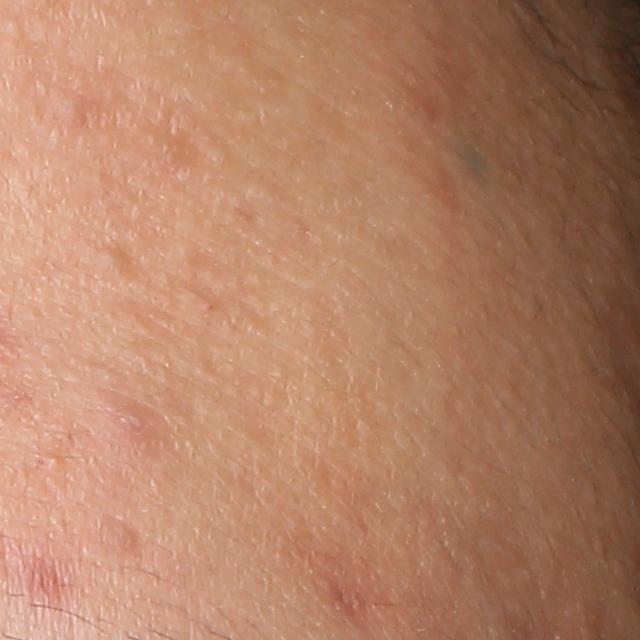comedo: (90, 248, 133, 279), (201, 135, 236, 167), (46, 453, 65, 471)
